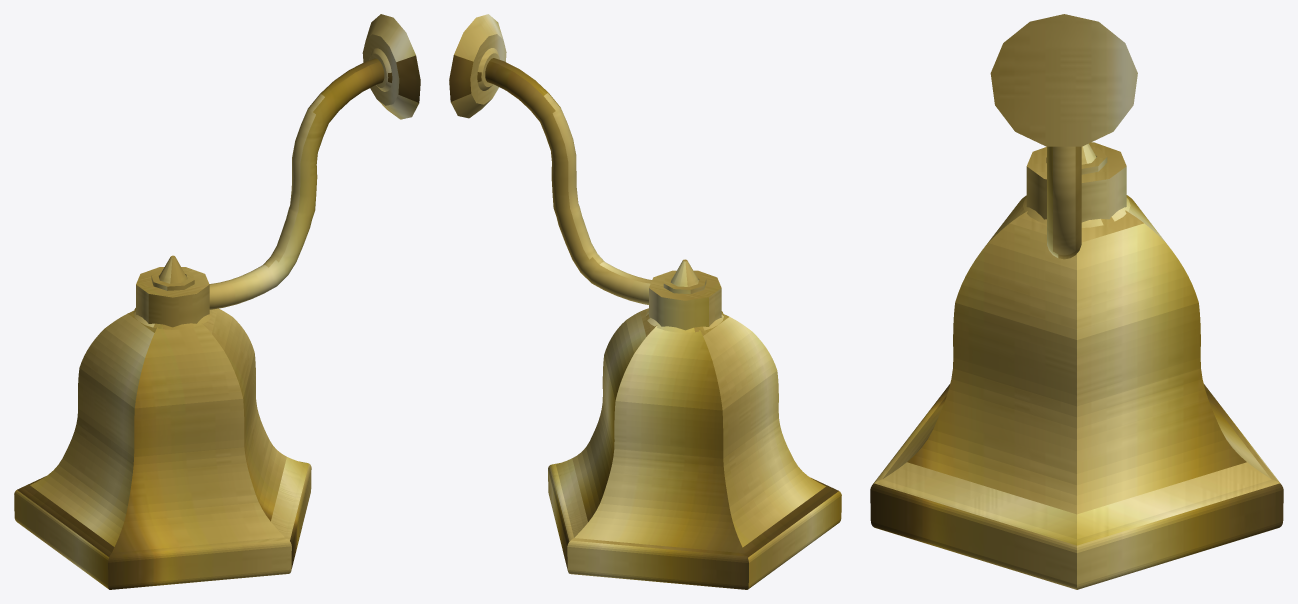
File: Bell.FBX
3 views of the same model, side by side, from view 1: azimuth 30°, elevation 25°; view 2: azimuth 150°, elevation 25°; view 3: azimuth 270°, elevation 25° (orthographic). The views are drawn at different scales.
Visible parts, largest first — view 1: Line001, Cylinder003, Cone003, Cylinder004; view 2: Line001, Cylinder003, Cone003, Cylinder004; view 3: Line001, Cone003, Cylinder004, Cylinder003, Cone002.
Part boxes in pixels (box(x1,y1,x2,y2)): Line001: box(14, 308, 311, 589); Cylinder003: box(209, 58, 384, 309); Cone003: box(362, 14, 420, 119); Cylinder004: box(136, 267, 209, 327); Line001: box(548, 308, 841, 589); Cylinder003: box(485, 58, 651, 304); Cone003: box(449, 14, 506, 118); Cylinder004: box(649, 270, 721, 330); Line001: box(870, 195, 1283, 589); Cone003: box(990, 14, 1137, 146); Cylinder004: box(1026, 142, 1126, 222); Cylinder003: box(1047, 146, 1081, 259); Cone002: box(1023, 198, 1130, 227).
Bounding box in the file's own units: 54.02 × 77.06 × 43.34.
1 material, 1 textured.
